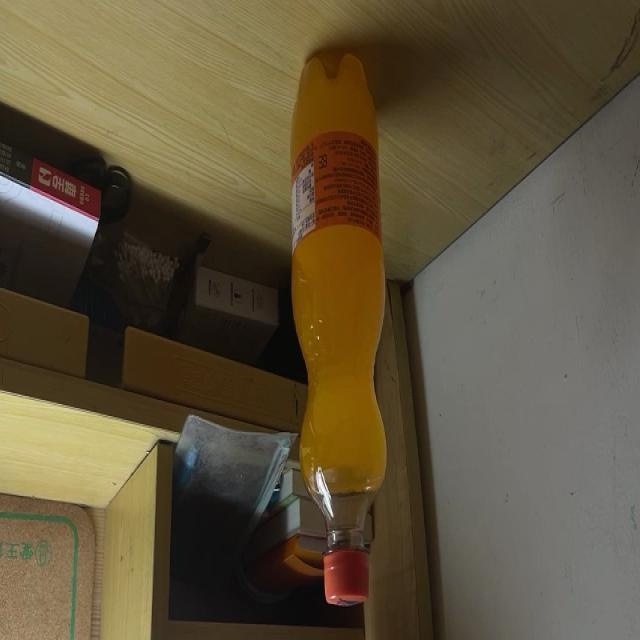Fanta: (290, 51, 388, 606)
